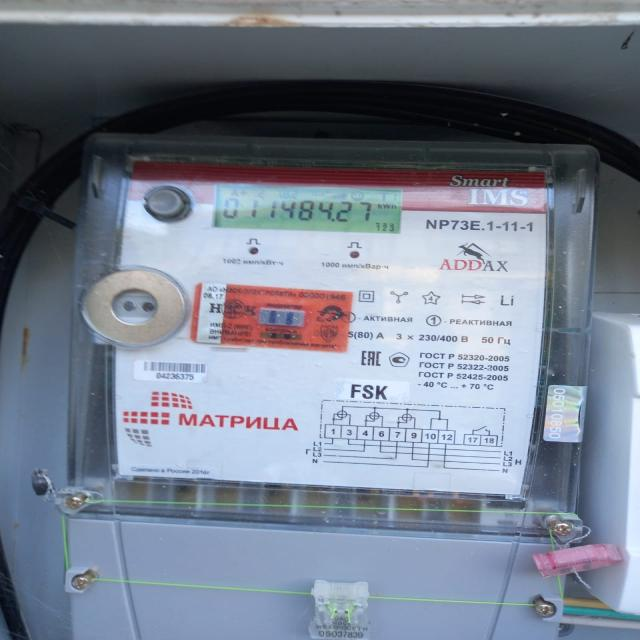Display: (212, 182, 408, 234)
meter_matrica: (113, 160, 557, 504)
meter_number: (135, 360, 208, 385)
seal_elso: (309, 578, 375, 639)
seal_imp: (191, 284, 353, 356)
